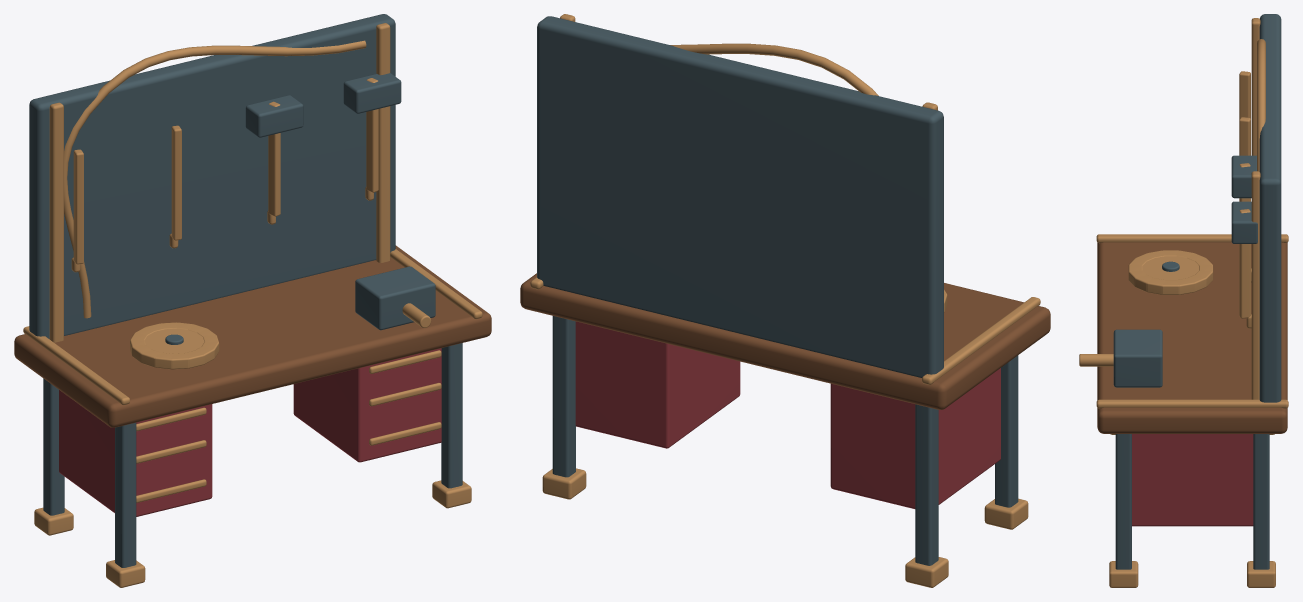
Rendered from Arsenal.fbx.
3 renders of one model, left to right at view 1: azimuth 30°, elevation 25°; view 2: azimuth 150°, elevation 25°; view 3: azimuth 270°, elevation 25°, orthographic. The views are drawn at different scales.
Visible parts, largest first — view 1: Arsenal; view 2: Arsenal; view 3: Arsenal.
Part boxes in pixels (x1,y1,x2,y2): Arsenal: [14, 14, 491, 587]; Arsenal: [520, 14, 1050, 587]; Arsenal: [1079, 14, 1288, 587].
Bounding box in the file's own units: 235 × 116 × 263.
